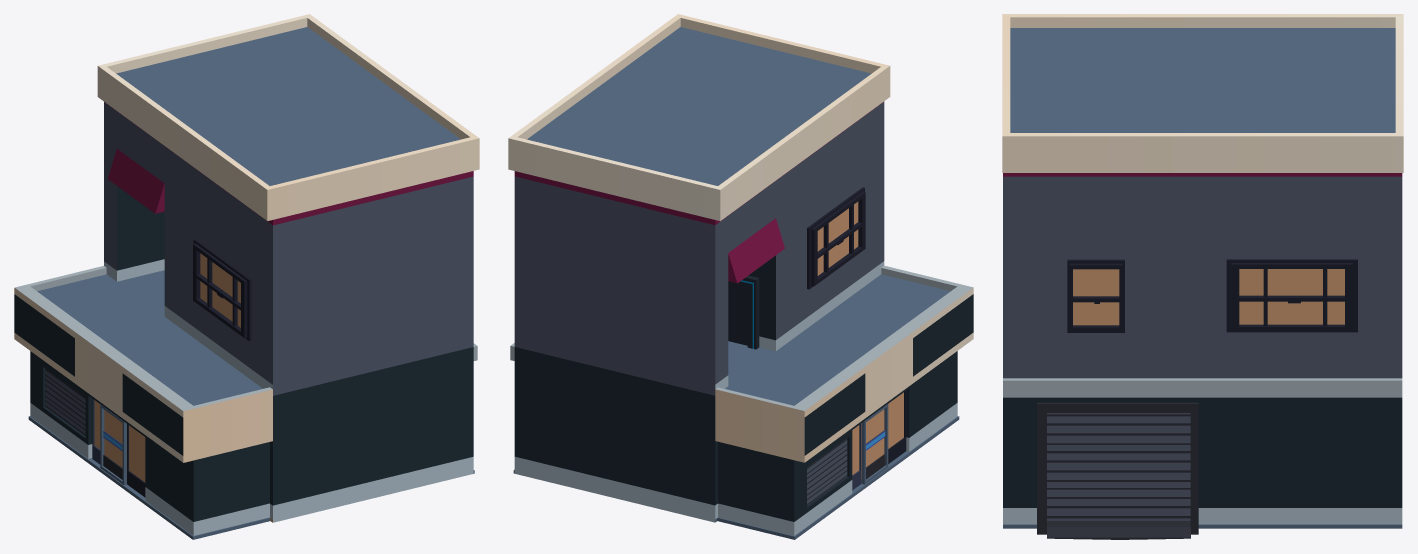
Rendered from Building_Small02.fbx.
The picture shows the model from 3 angles, left to right: view 1: azimuth 30°, elevation 25°; view 2: azimuth 150°, elevation 25°; view 3: azimuth 270°, elevation 25°; orthographic projection. The views are drawn at different scales.
Visible parts, largest first — view 1: Cube.400, Cube.402; view 2: Cube.400, Cube.402; view 3: Cube.400.
Boxes of the visible parts, left/top/right/bottom form: Cube.400: left=14, top=14, right=479, bottom=539; Cube.402: left=100, top=404, right=126, bottom=485; Cube.400: left=508, top=14, right=973, bottom=539; Cube.402: left=862, top=404, right=888, bottom=484; Cube.400: left=1002, top=14, right=1403, bottom=539.
Bounding box in the file's own units: 700 × 759 × 687.
